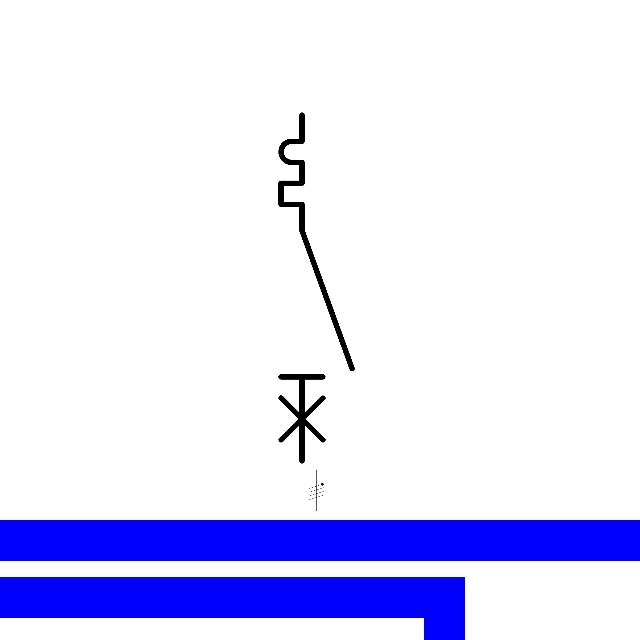interruptor_termomagnetico: (272, 106, 361, 470)
